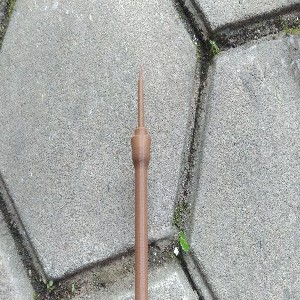solder: (131, 66, 152, 300)
